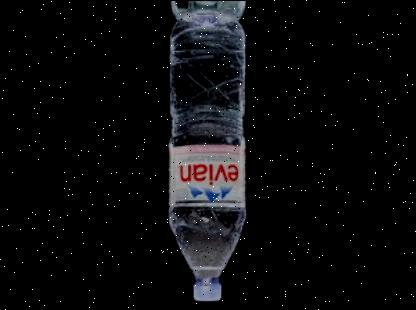Plastic Bottle: (166, 9, 246, 300)
